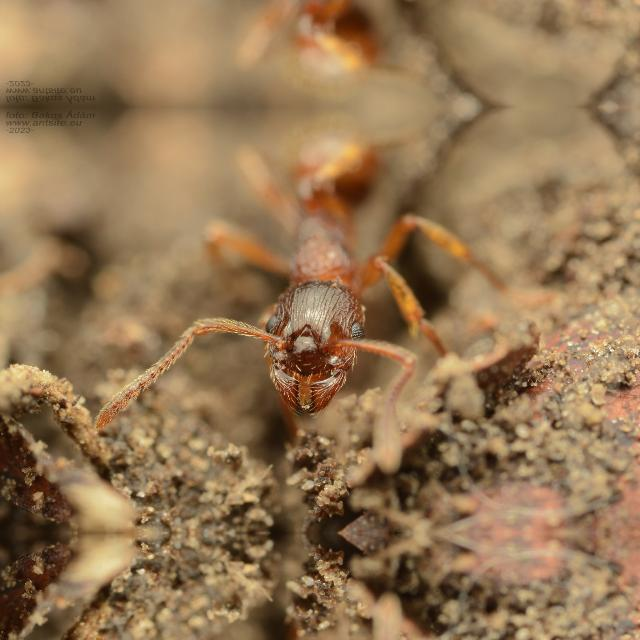Myrmica: (120, 111, 534, 441), (118, 0, 533, 100)
